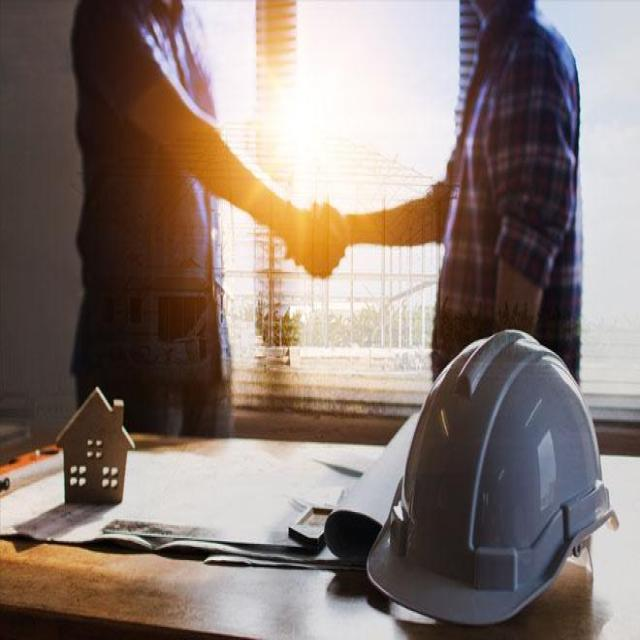helmet: (362, 325, 622, 631)
